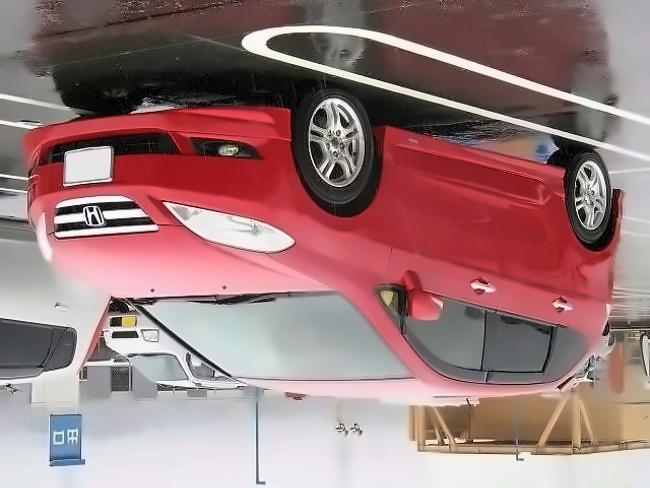Car hood: (29, 224, 335, 297)
Driver-s door - -F-R-: (366, 105, 502, 411)
Fender - -F-R-: (276, 100, 403, 293)
Fender - -R-R-: (552, 166, 622, 333)
Front bumper: (24, 99, 304, 215)
Headlight - -L-: (34, 212, 54, 268)
Headlight - -R-: (160, 199, 296, 252)
Passenger-s door - -R-R-: (475, 106, 575, 409)
Side bumper - -R-: (365, 107, 571, 216)
Side mirror - -R-: (402, 267, 446, 326)
